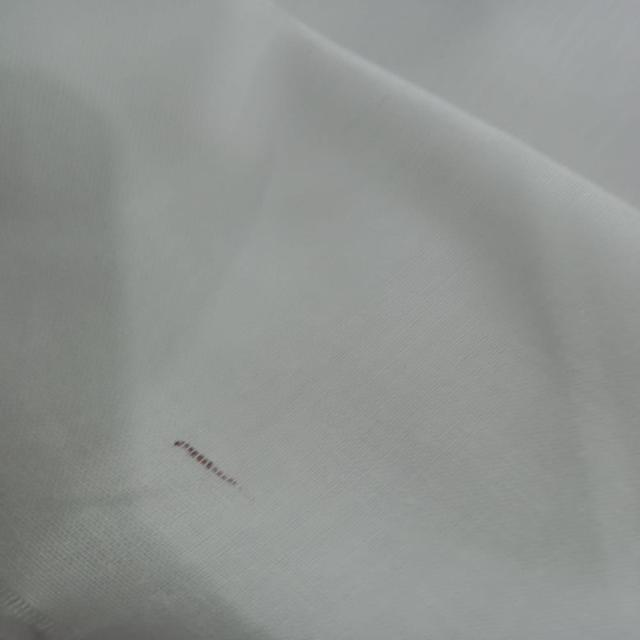contamination: (171, 435, 245, 491)
